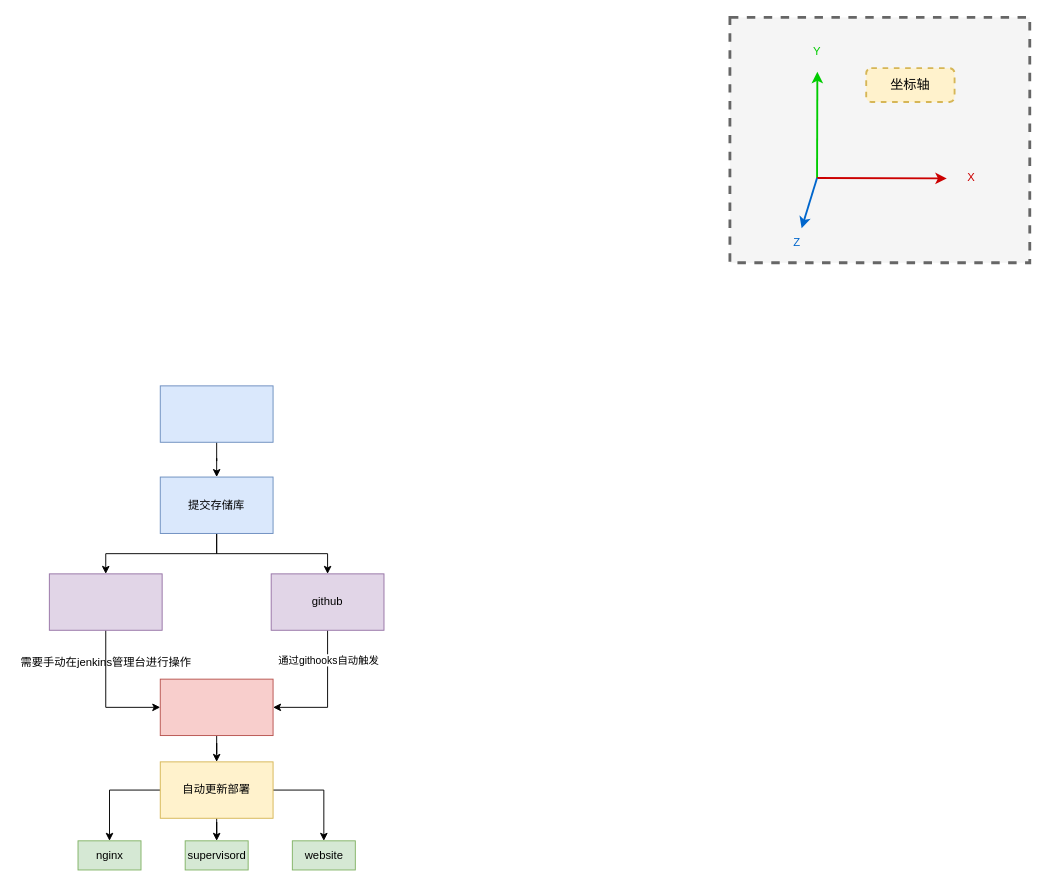
The diagram is 1047 pixels wide and 894 high, and some of its shapes have lost their labels. Each missing label, with the centre of its shape:
"jenkins拉取代码" belongs at (216,707).
"svn" belongs at (105,601).
"项目编程" belongs at (216,413).
